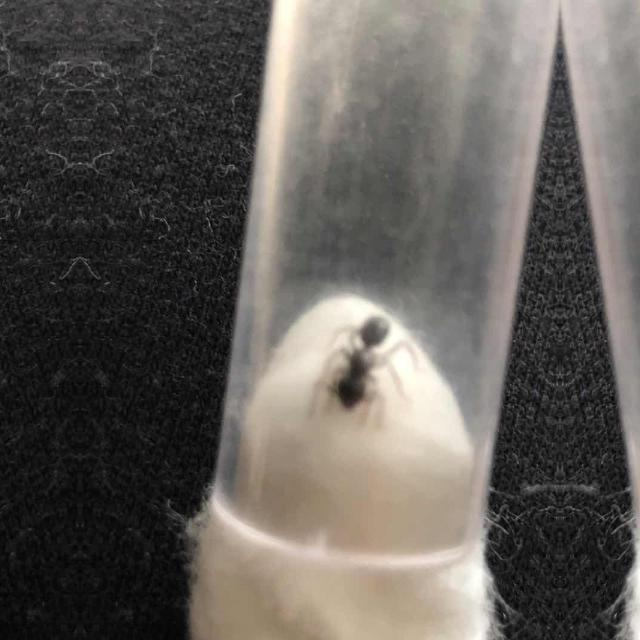Lasius: (302, 293, 436, 451)
